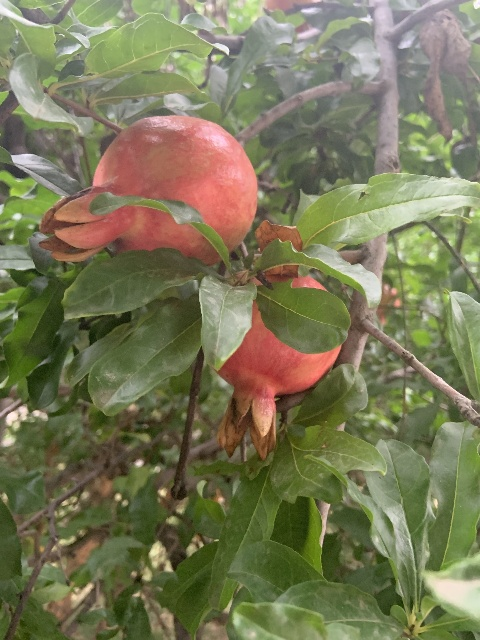ripe: (37, 115, 258, 264), (213, 275, 343, 460)
